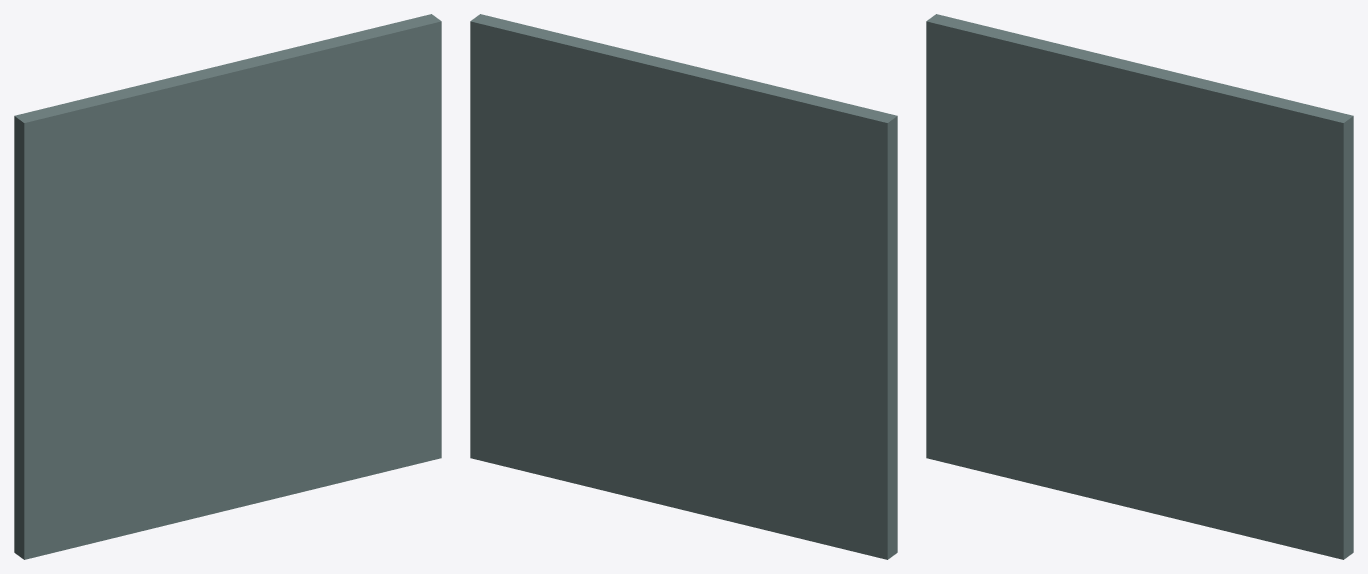
The picture shows the model from 3 angles, left to right: view 1: azimuth 30°, elevation 25°; view 2: azimuth 150°, elevation 25°; view 3: azimuth 330°, elevation 25°; orthographic projection.
Size of the model in its own units: 2.4 by 2.4 by 0.1.
